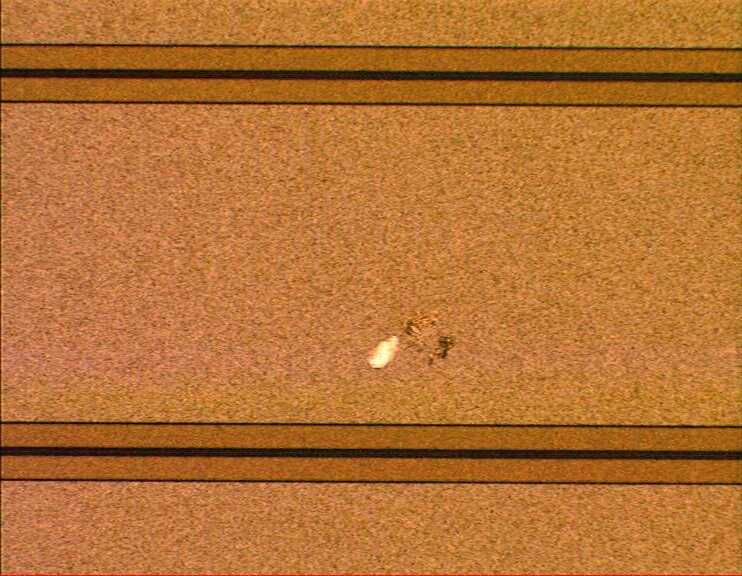SCRATCH: (348, 308, 483, 386)
